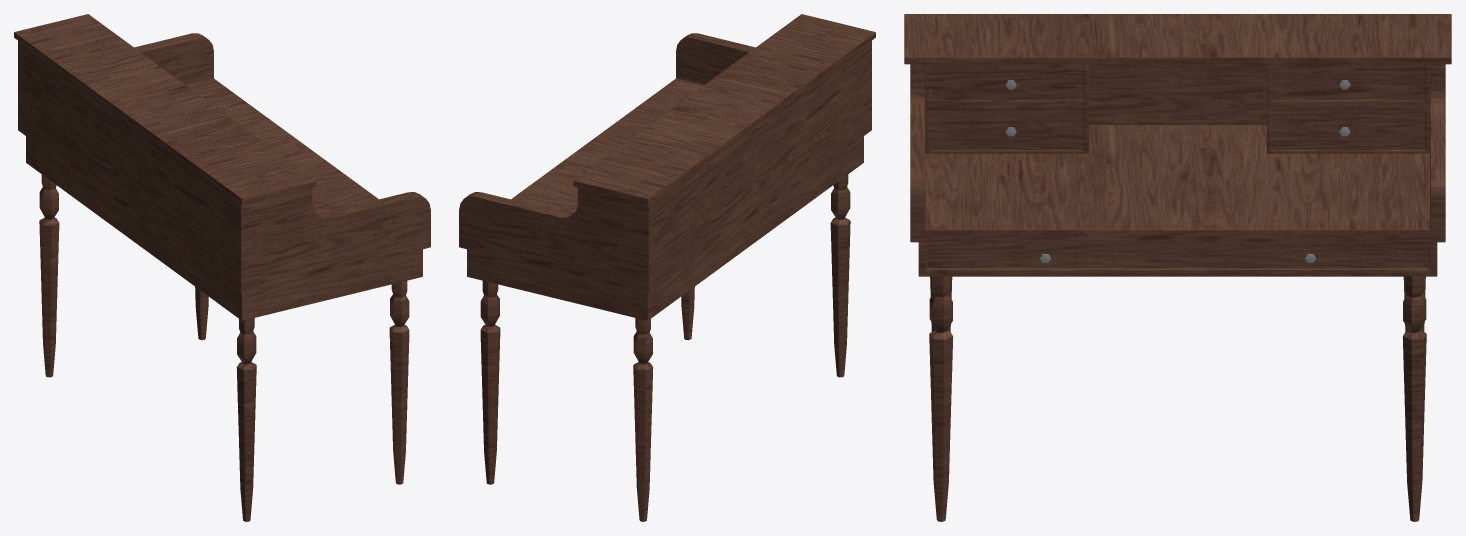
Rendered from Desk.fbx.
The picture shows the model from 3 angles, left to right: view 1: azimuth 30°, elevation 25°; view 2: azimuth 150°, elevation 25°; view 3: azimuth 270°, elevation 25°; orthographic projection. The views are drawn at different scales.
Visible parts, largest first — view 1: Desk_low; view 2: Desk_low; view 3: Desk_low.
Part boxes in pixels (x1=…): Desk_low: x1=14, y1=14, x2=430, y2=521; Desk_low: x1=459, y1=14, x2=875, y2=521; Desk_low: x1=904, y1=14, x2=1451, y2=521.
Size of the model in its own units: 67.9 by 114 by 140.
